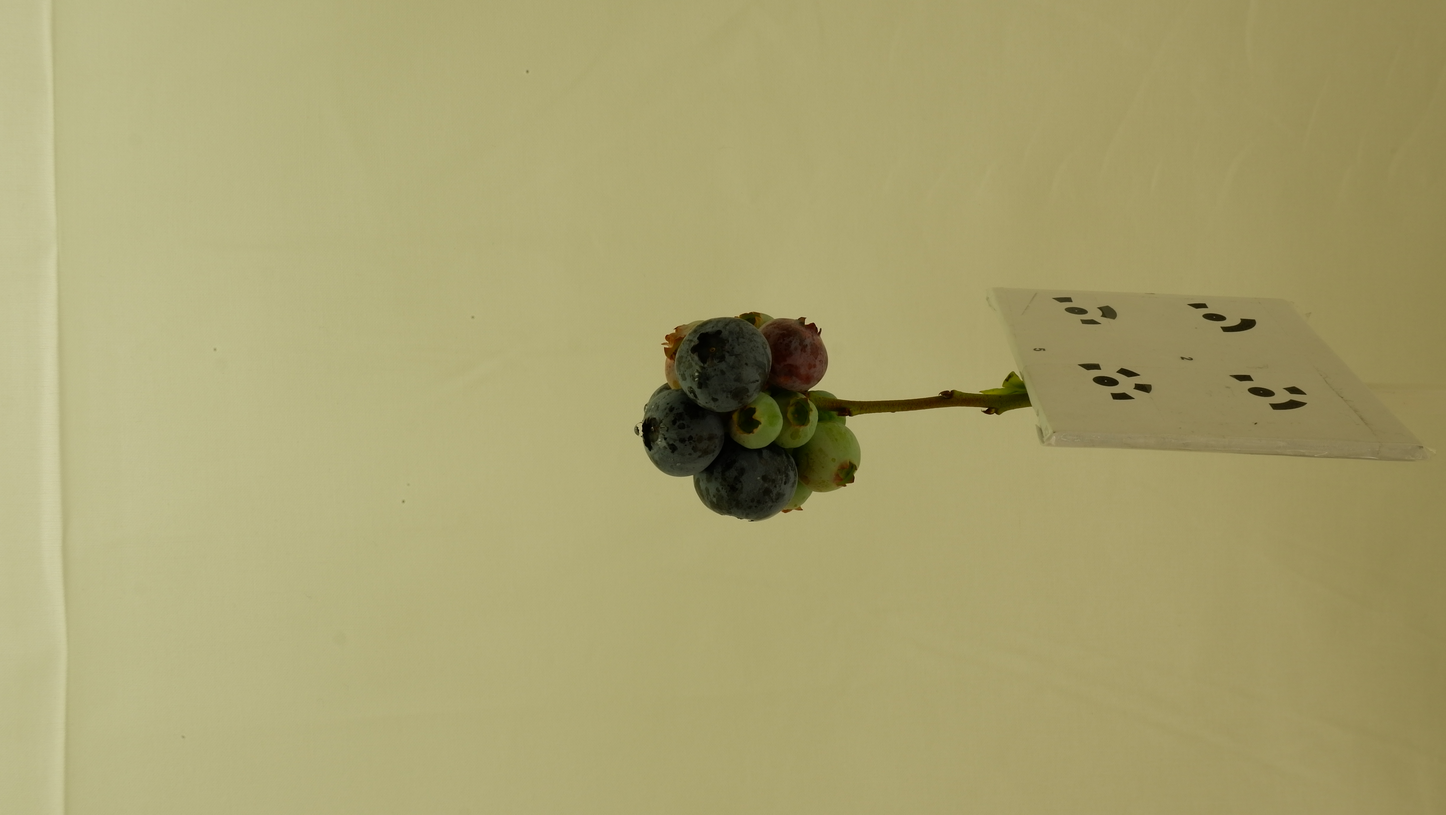Immature: (758, 317, 828, 391), (794, 422, 861, 492), (729, 392, 783, 448), (661, 320, 704, 389), (771, 391, 818, 448), (796, 389, 845, 427), (781, 478, 812, 513), (735, 312, 776, 330)
Mature: (674, 317, 771, 412), (693, 439, 797, 521), (640, 388, 724, 478), (644, 382, 673, 413)
